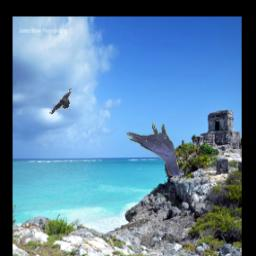Crow: (125, 119, 184, 178), (50, 89, 73, 115)
